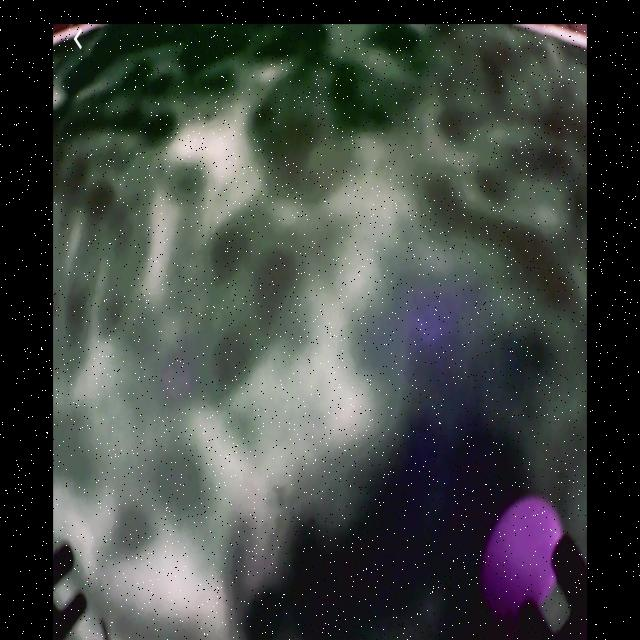ball: (480, 493, 563, 618)
